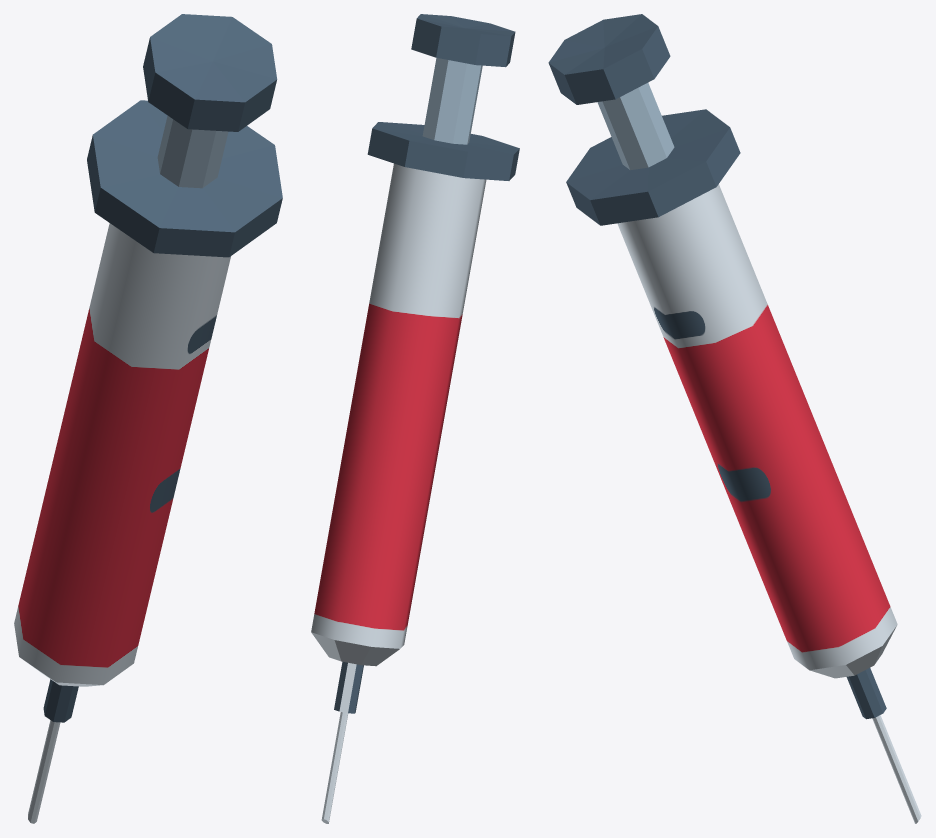
File: Kit_1.fbx
3 views of the same model, side by side, from view 1: azimuth 30°, elevation 25°; view 2: azimuth 150°, elevation 25°; view 3: azimuth 270°, elevation 25° (orthographic). The views are drawn at different scales.
Parts seen in each view (by area): view 1: Cylinder001; view 2: Cylinder001; view 3: Cylinder001.
Boxes of the visible parts, bbox=[...] form: Cylinder001: bbox=[14, 14, 282, 823]; Cylinder001: bbox=[311, 14, 519, 823]; Cylinder001: bbox=[548, 14, 921, 823].
Bounding box in the file's own units: 28.15 × 142 × 60.05.
1 material, 1 textured.
